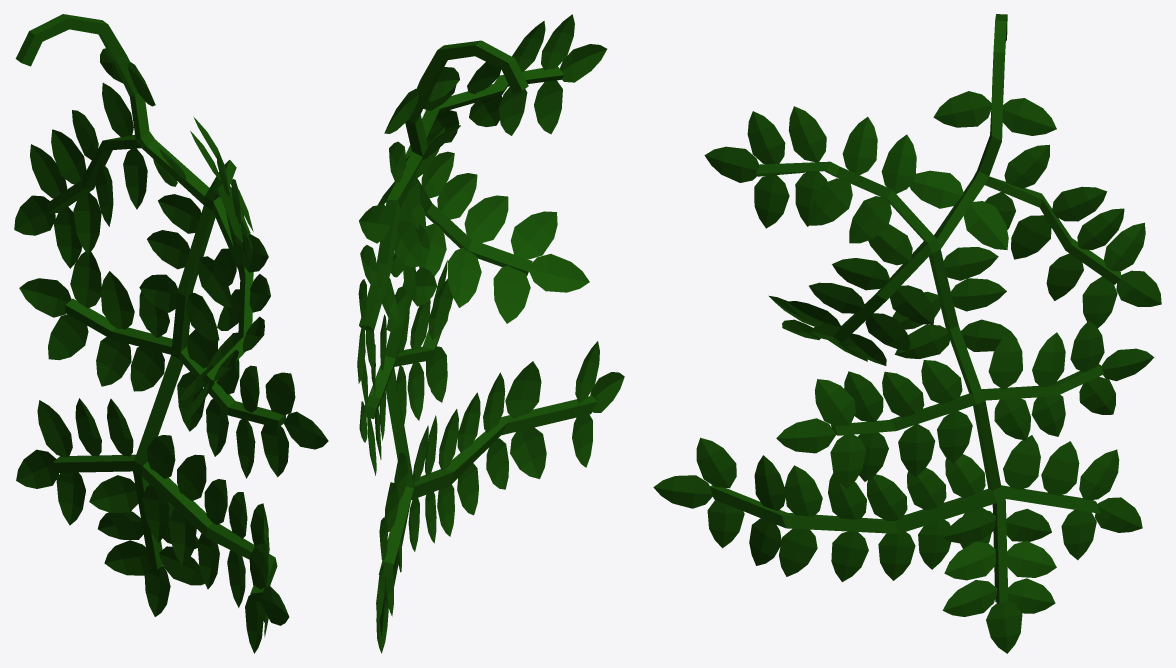
The model's file is IvyFlipped01.fbx.
3 renders of one model, left to right at view 1: azimuth 30°, elevation 25°; view 2: azimuth 150°, elevation 25°; view 3: azimuth 270°, elevation 25°, orthographic. The views are drawn at different scales.
Visible parts, largest first — view 1: IvyFlipped01; view 2: IvyFlipped01; view 3: IvyFlipped01.
Part boxes in pixels (box(x1,y1,x2,y2)): IvyFlipped01: box(14, 14, 328, 653); IvyFlipped01: box(357, 14, 624, 653); IvyFlipped01: box(653, 14, 1161, 653).
Size of the model in its own units: 198 by 622 by 485.
